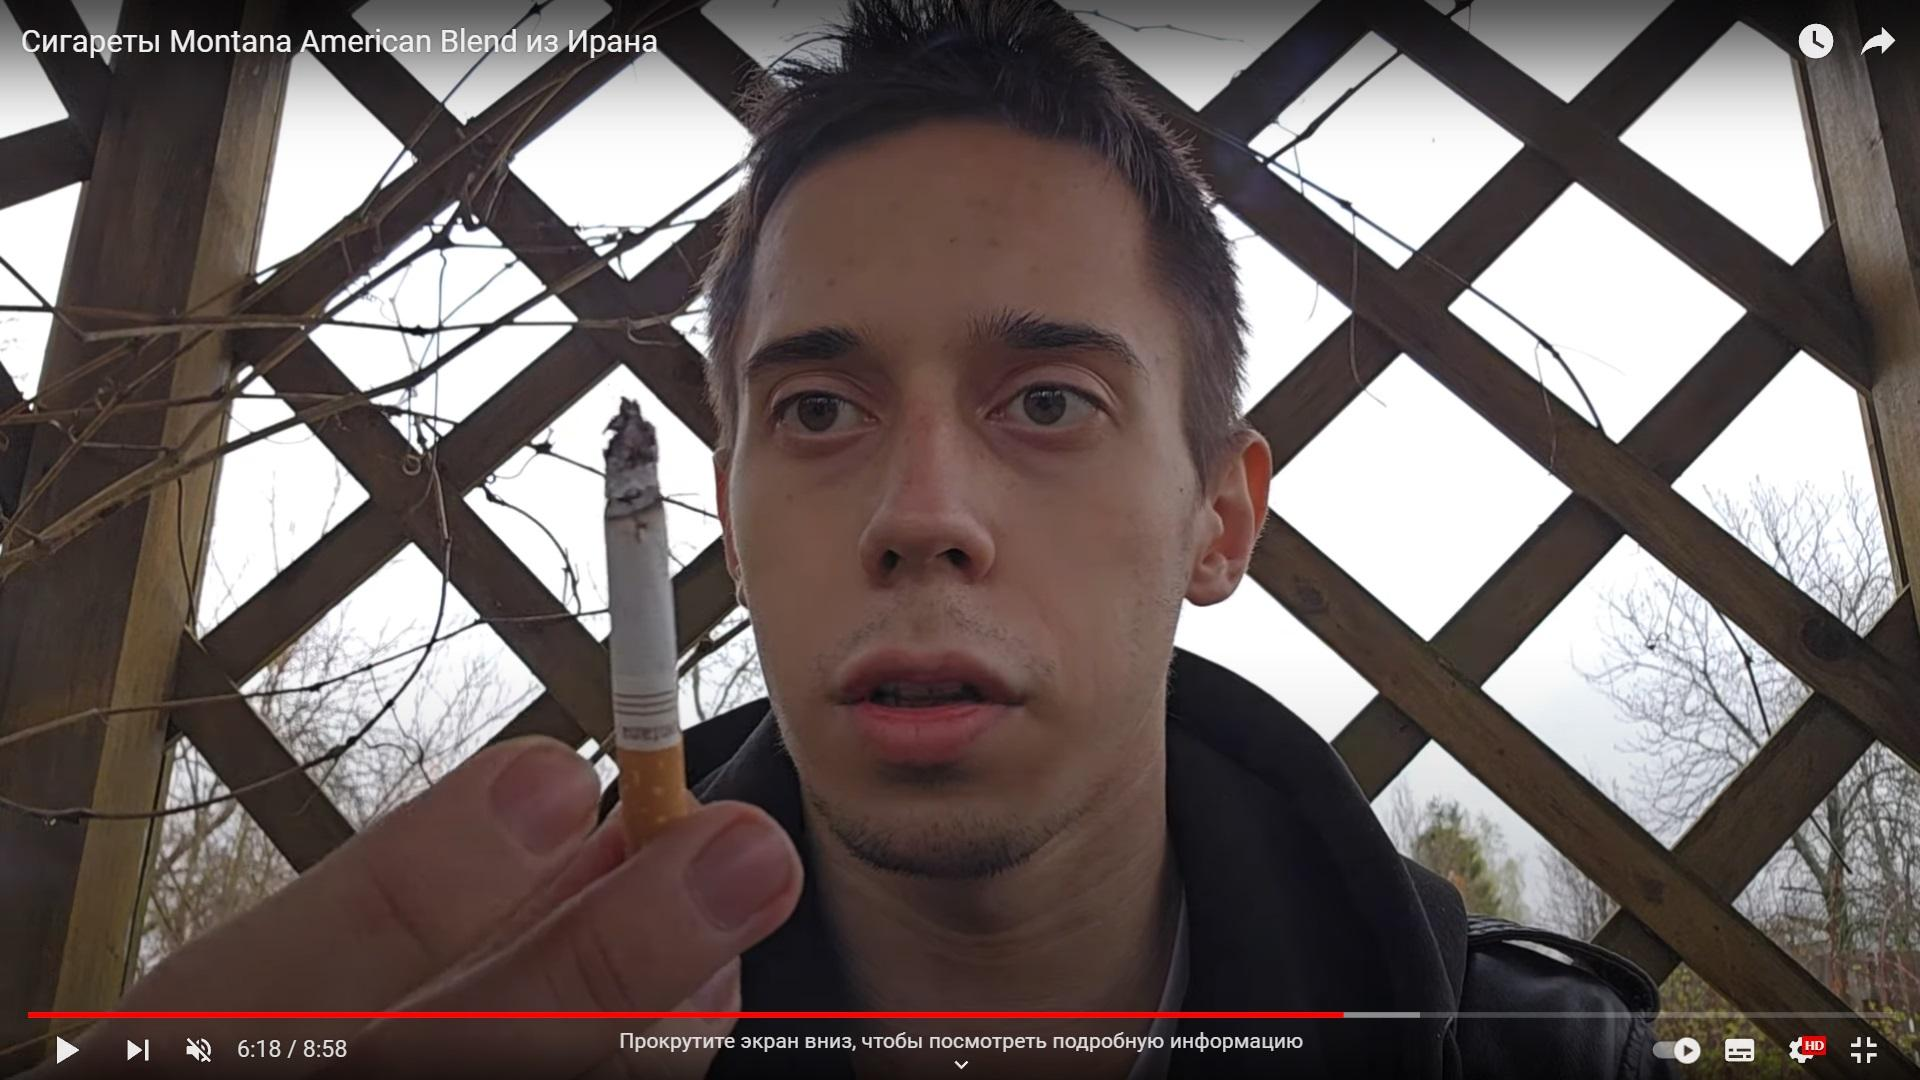cigarette: (601, 397, 687, 860)
